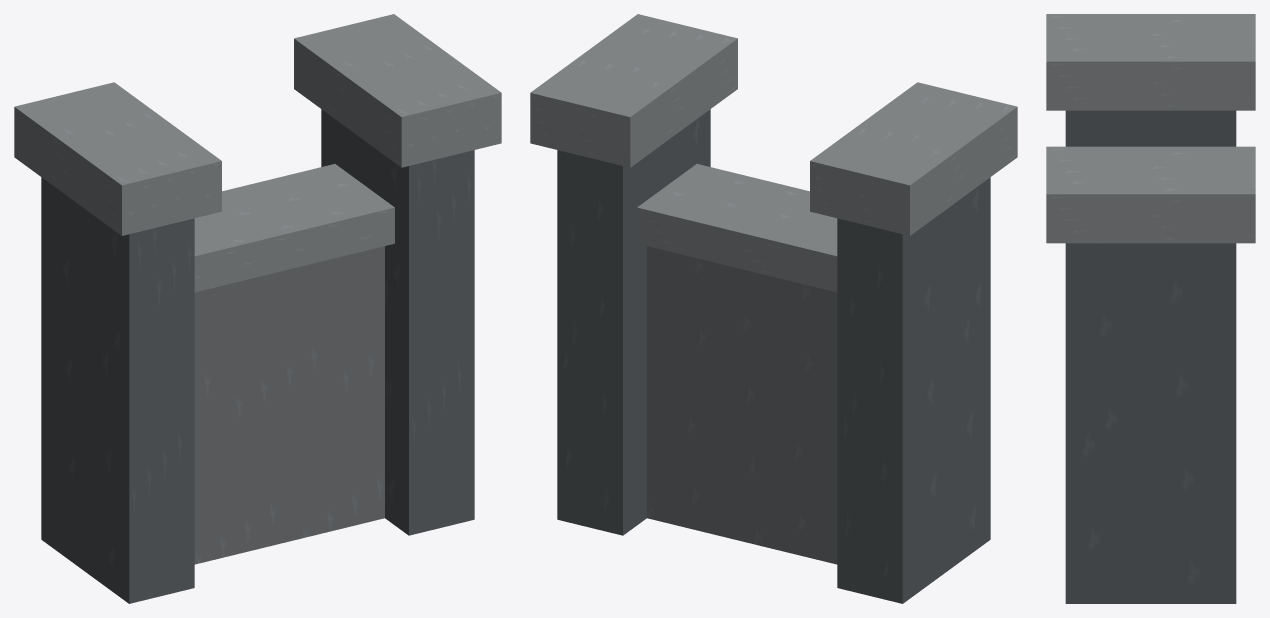
File: Gate_Closed.obj
The picture shows the model from 3 angles, left to right: view 1: azimuth 30°, elevation 25°; view 2: azimuth 150°, elevation 25°; view 3: azimuth 270°, elevation 25°; orthographic projection. The views are drawn at different scales.
Parts seen in each view (by area): view 1: Gate_Closed; view 2: Gate_Closed; view 3: Gate_Closed.
Part boxes in pixels (bbox=[...]): Gate_Closed: bbox=[14, 14, 501, 603]; Gate_Closed: bbox=[530, 14, 1017, 603]; Gate_Closed: bbox=[1046, 14, 1255, 603].
Bounding box in the file's own units: 1.1 × 1.19 × 0.54.
